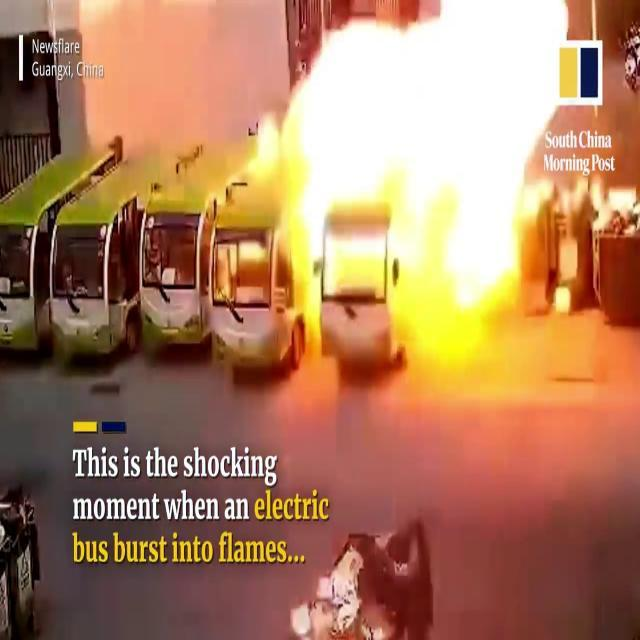Fire: (250, 1, 610, 338)
